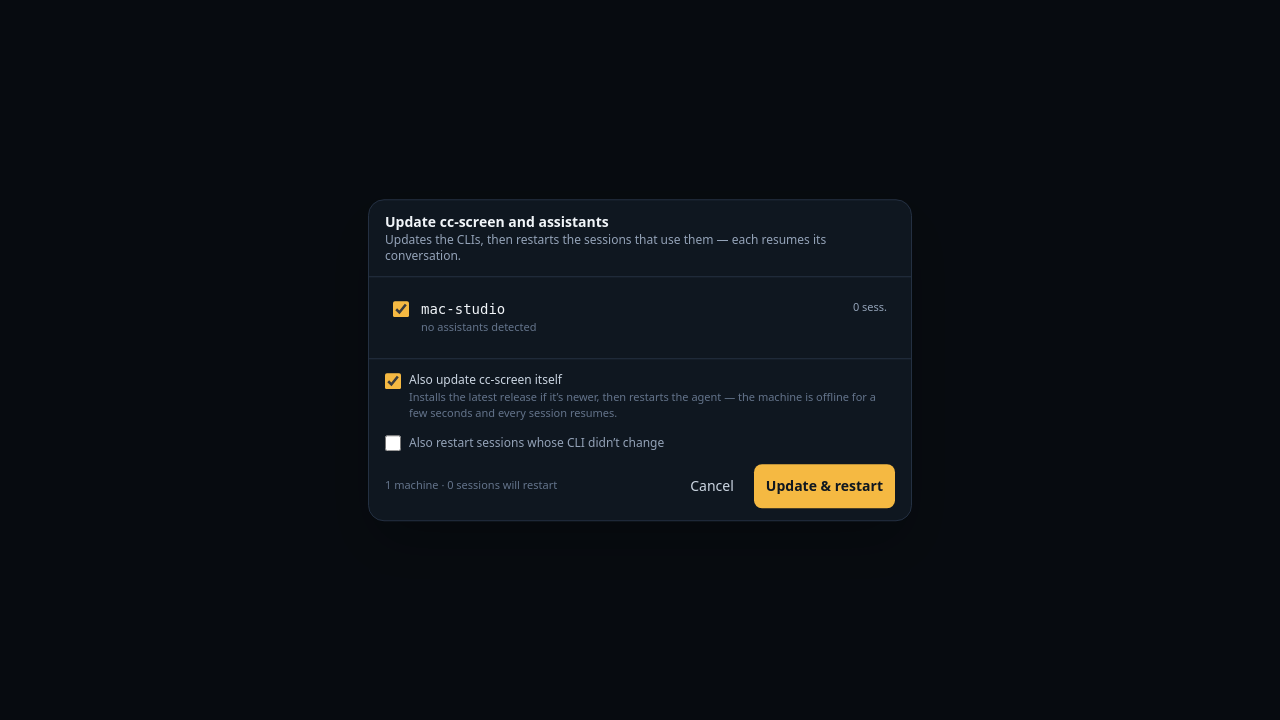
UpdateAssistants — the agent itself (proposal 0091) › says so when the machine never comes back
Click the button "Update & restart" at (824, 486), box [754,464,895,508]
Wait 126500 ms
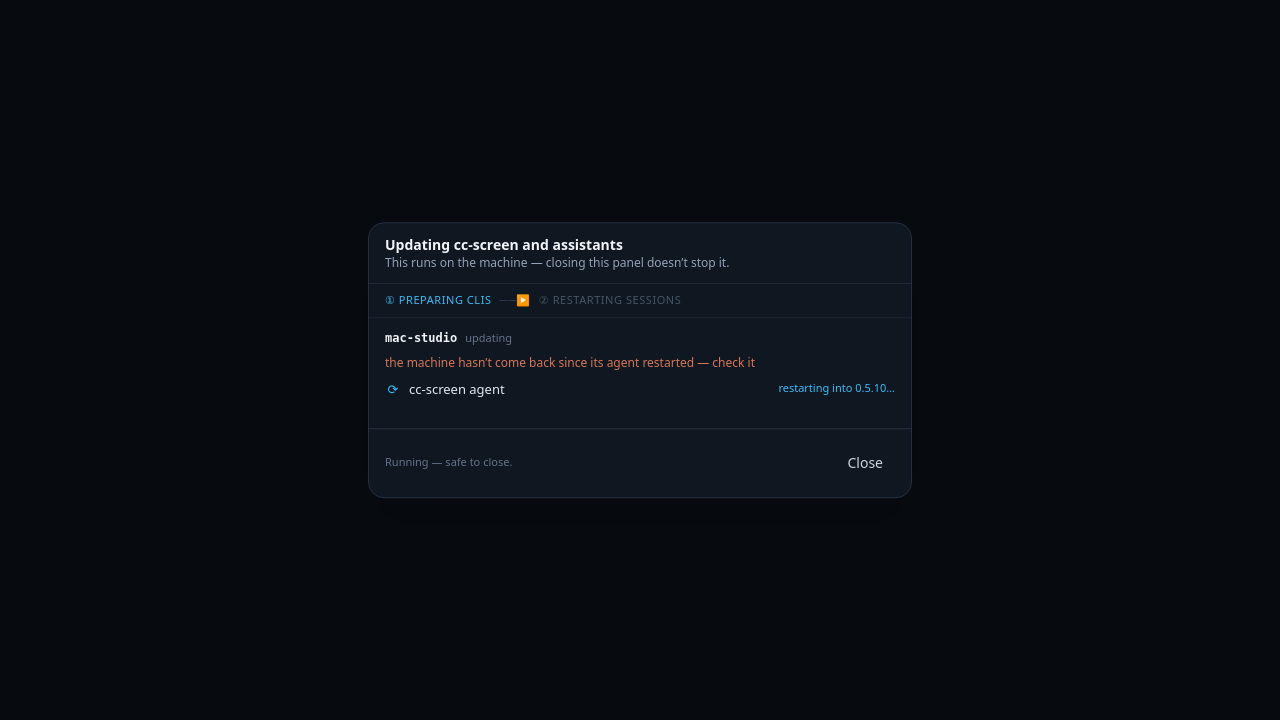
Now the text "hasn’t come back since its agent restarted" is shown, box [385,354,755,371]
